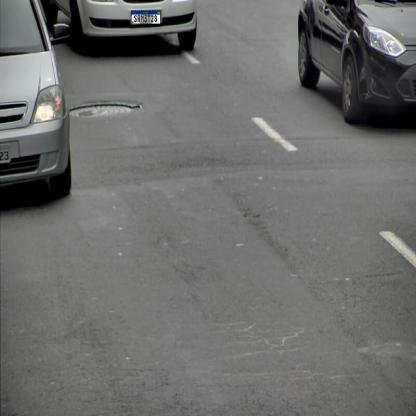PlacaM: (131, 11, 161, 24)
